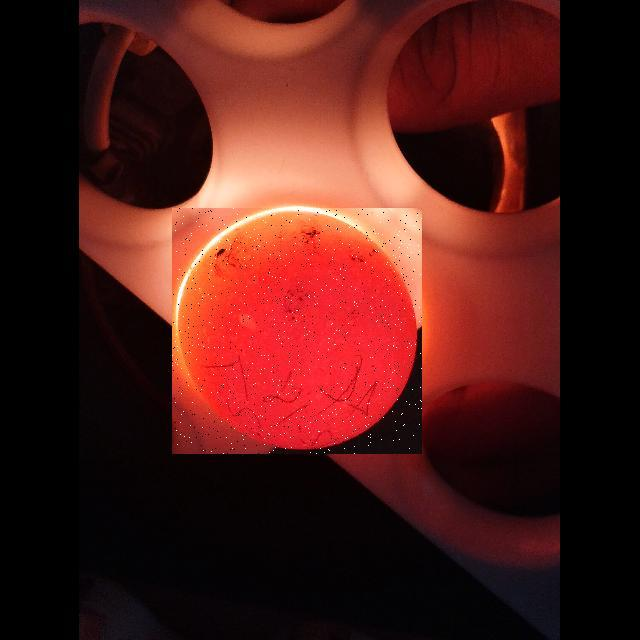Infertile: (172, 208, 422, 454)
